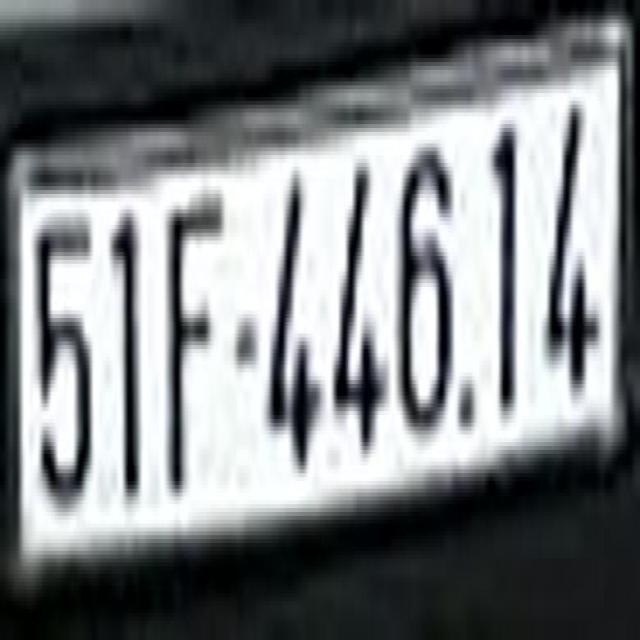1: (483, 89, 523, 419), (110, 194, 146, 493)
4: (257, 182, 316, 477), (334, 162, 380, 462), (552, 108, 598, 400)
5: (35, 210, 96, 504)
6: (397, 132, 459, 438)
F: (165, 174, 228, 500)
